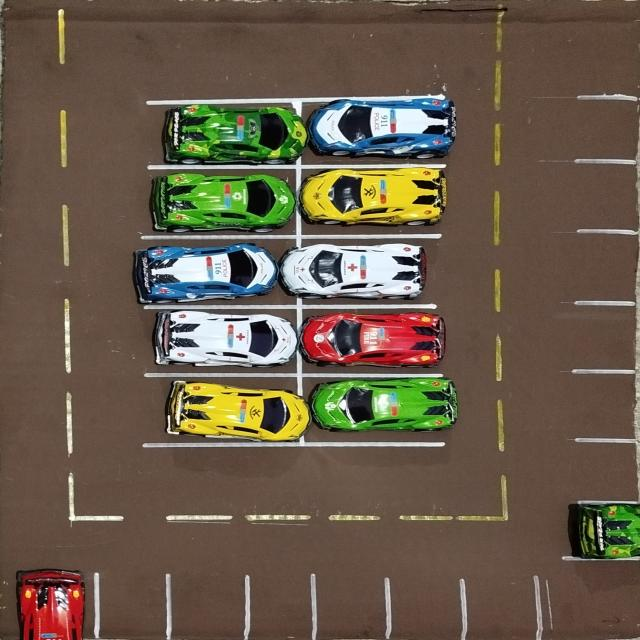libre: (575, 230, 640, 306), (168, 580, 246, 640), (387, 580, 463, 640), (312, 580, 388, 640), (574, 371, 640, 440), (576, 161, 638, 234), (463, 581, 538, 640), (575, 303, 639, 372), (98, 580, 168, 640), (573, 440, 640, 502), (579, 96, 640, 162), (246, 580, 312, 640)
no_estacionarse: (541, 558, 640, 640)
ocupado: (134, 238, 300, 305), (147, 166, 301, 238), (300, 375, 458, 445), (144, 375, 300, 445), (141, 306, 298, 374), (298, 166, 450, 236), (299, 306, 446, 375), (300, 100, 453, 166), (146, 102, 300, 165), (299, 237, 436, 307), (0, 567, 98, 640), (567, 500, 640, 558)
